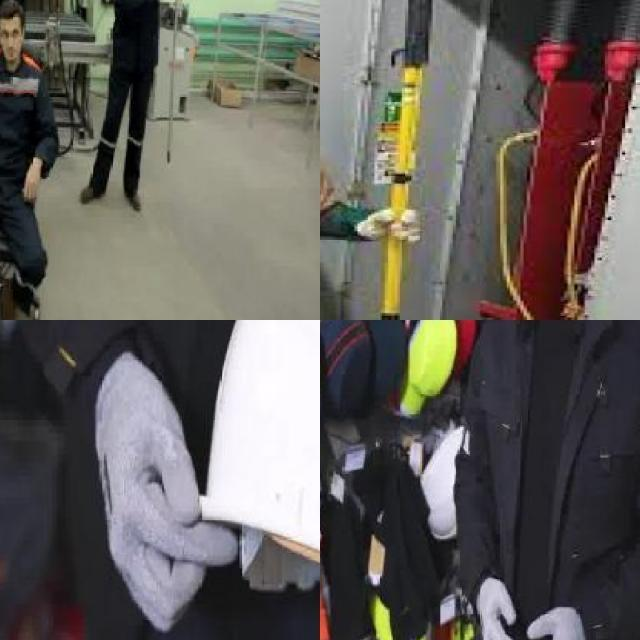apron: (94, 345, 239, 639), (476, 576, 525, 640), (358, 205, 426, 251), (522, 596, 589, 640)
